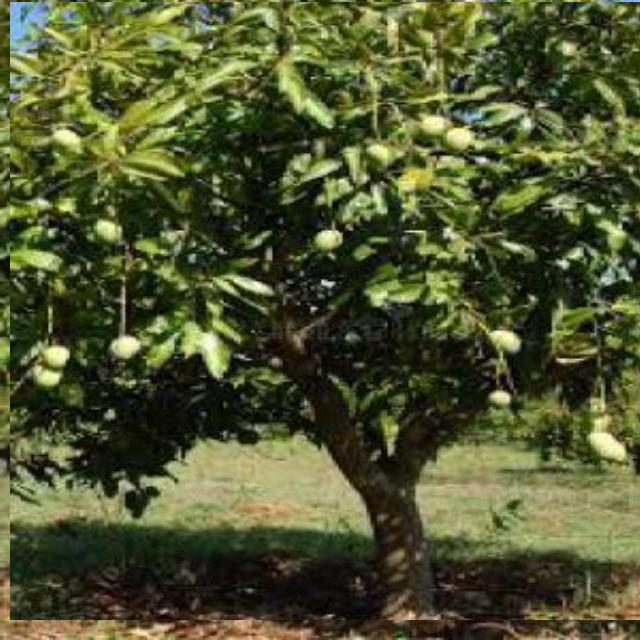tree: (10, 2, 640, 620)
